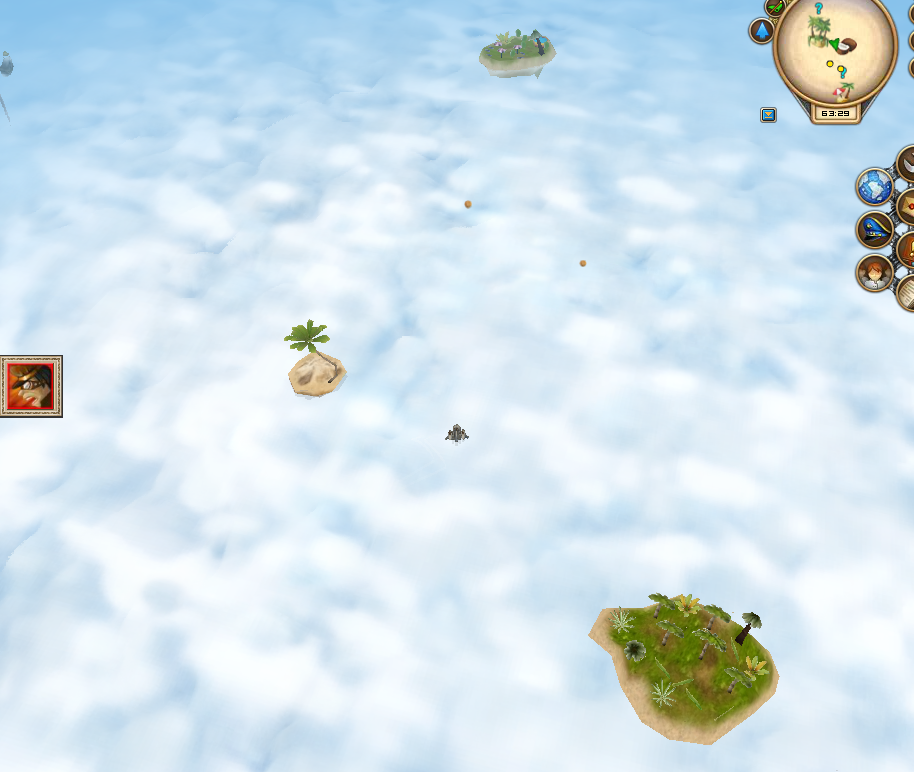coconut: (461, 197, 475, 210), (577, 255, 589, 268)
palm: (281, 314, 350, 400)
